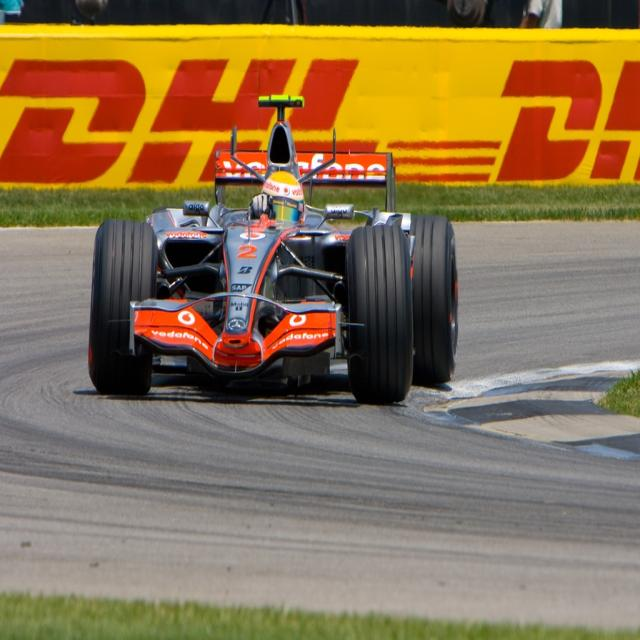dhl: (2, 52, 443, 186), (434, 56, 640, 186)
